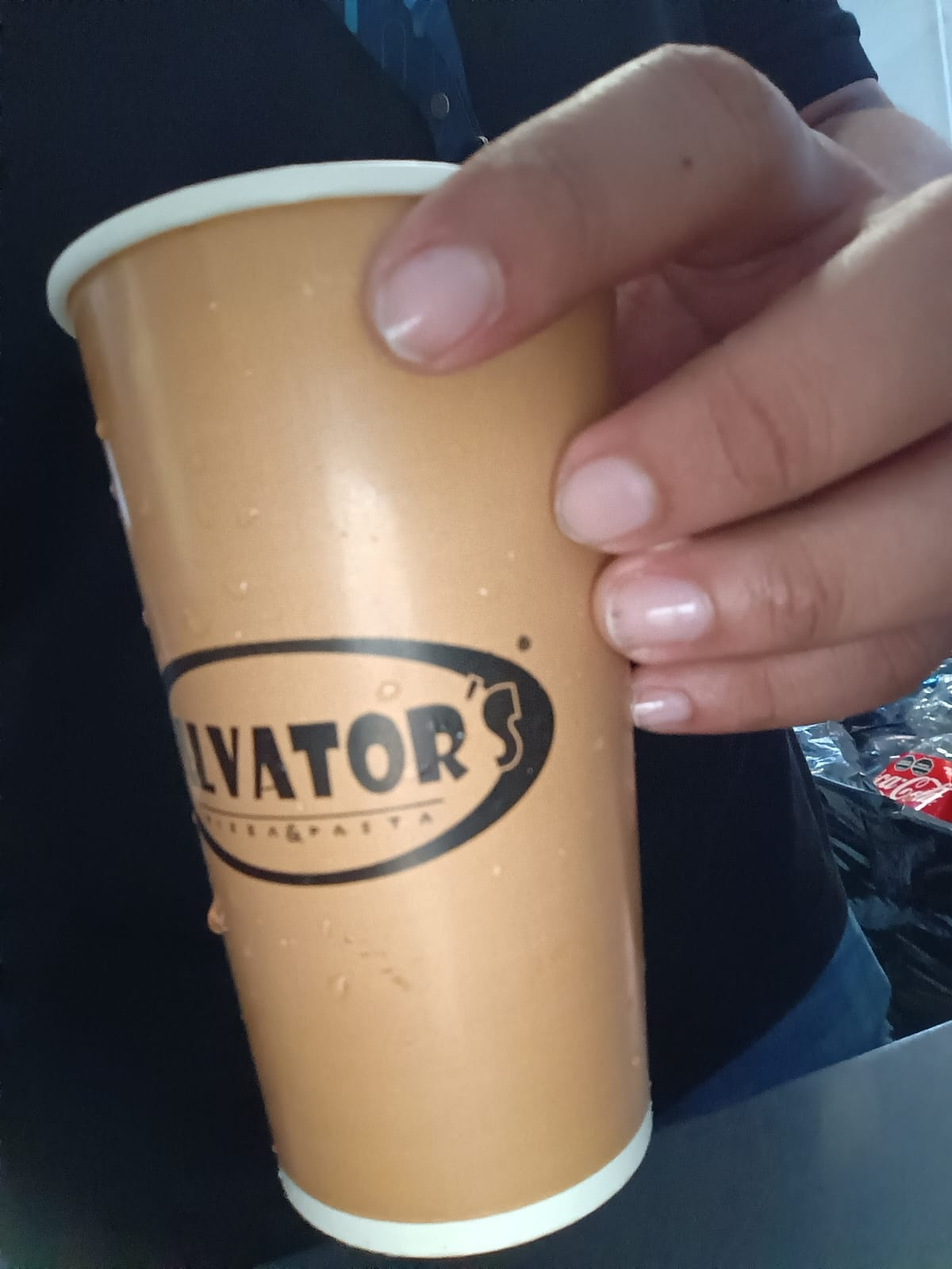Carton: (46, 159, 655, 1260)
